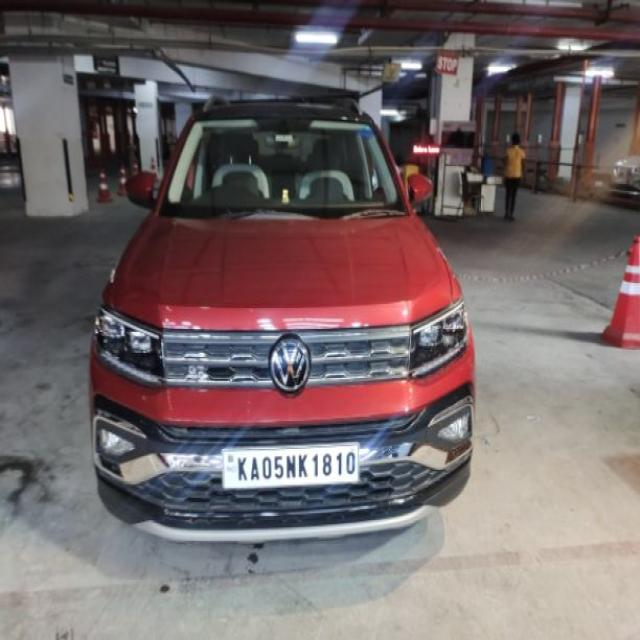license_plate: (220, 440, 360, 490)
